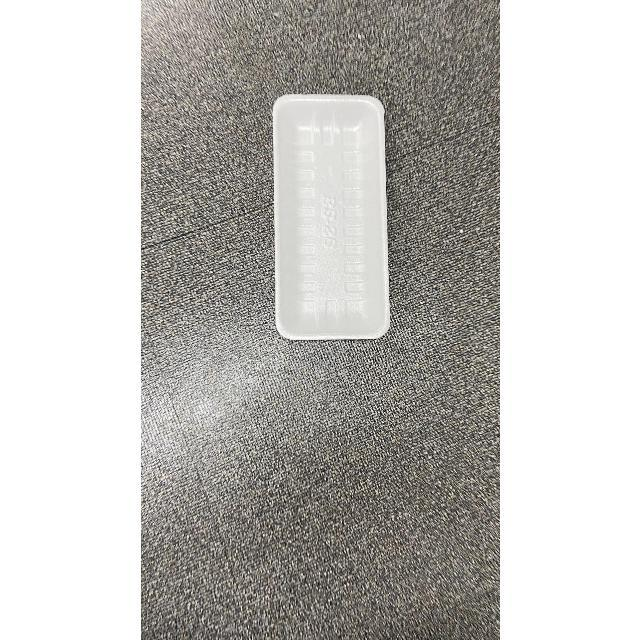Recipiente plastico: (274, 95, 390, 339)
